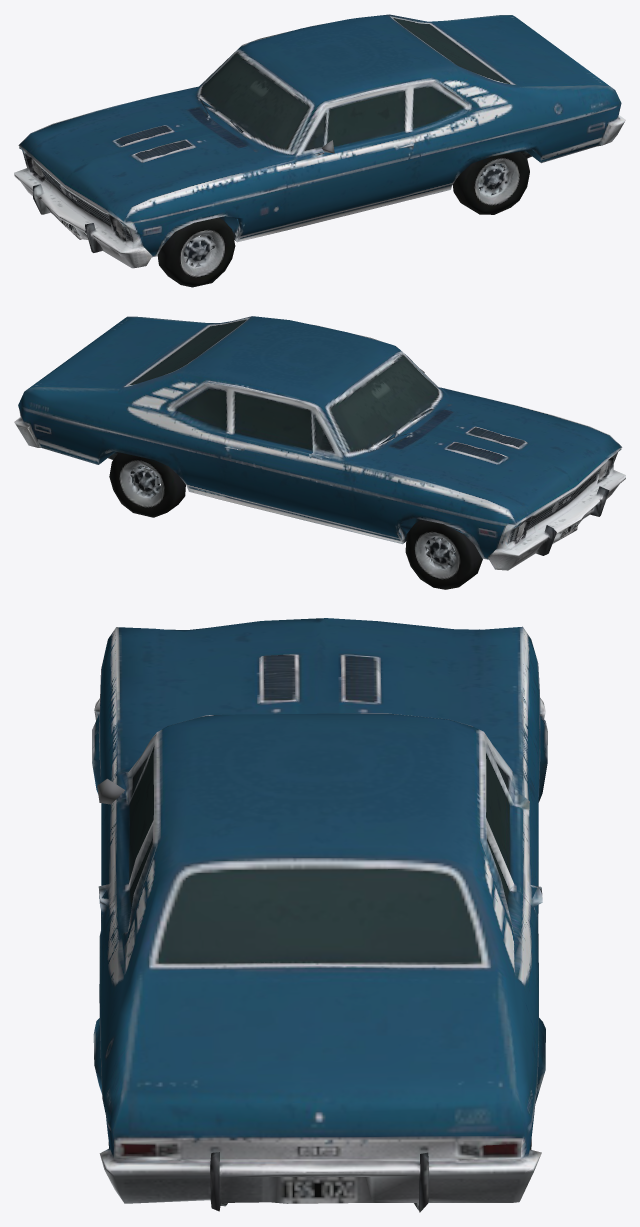
The model's file is kw_nova.glb.
The picture shows the model from 3 angles, top to bottom: view 1: azimuth 30°, elevation 25°; view 2: azimuth 150°, elevation 25°; view 3: azimuth 270°, elevation 25°; orthographic projection. The views are drawn at different scales.
Parts seen in each view (by area): view 1: frame; view 2: frame; view 3: frame.
Boxes of the visible parts, <box> form: frame: <box>14,14,625,287</box>; frame: <box>14,316,625,589</box>; frame: <box>92,618,547,1212</box>.
Size of the model in its own units: 4.7 by 1.3 by 1.78.
Materials: 1 (1 with a texture image).
